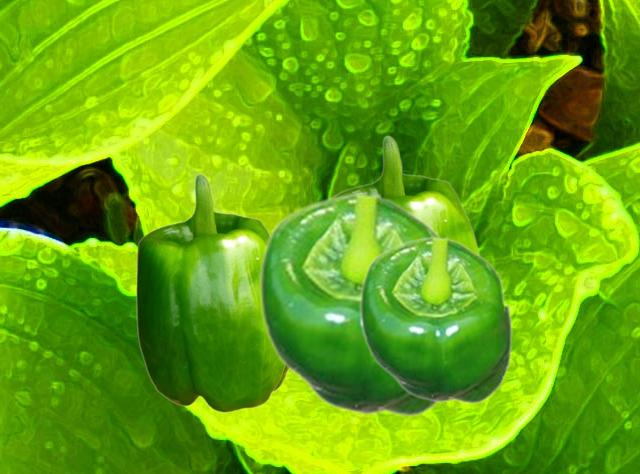bell_pepper: (257, 191, 443, 416), (135, 173, 288, 412), (358, 235, 512, 403), (335, 135, 480, 253)
